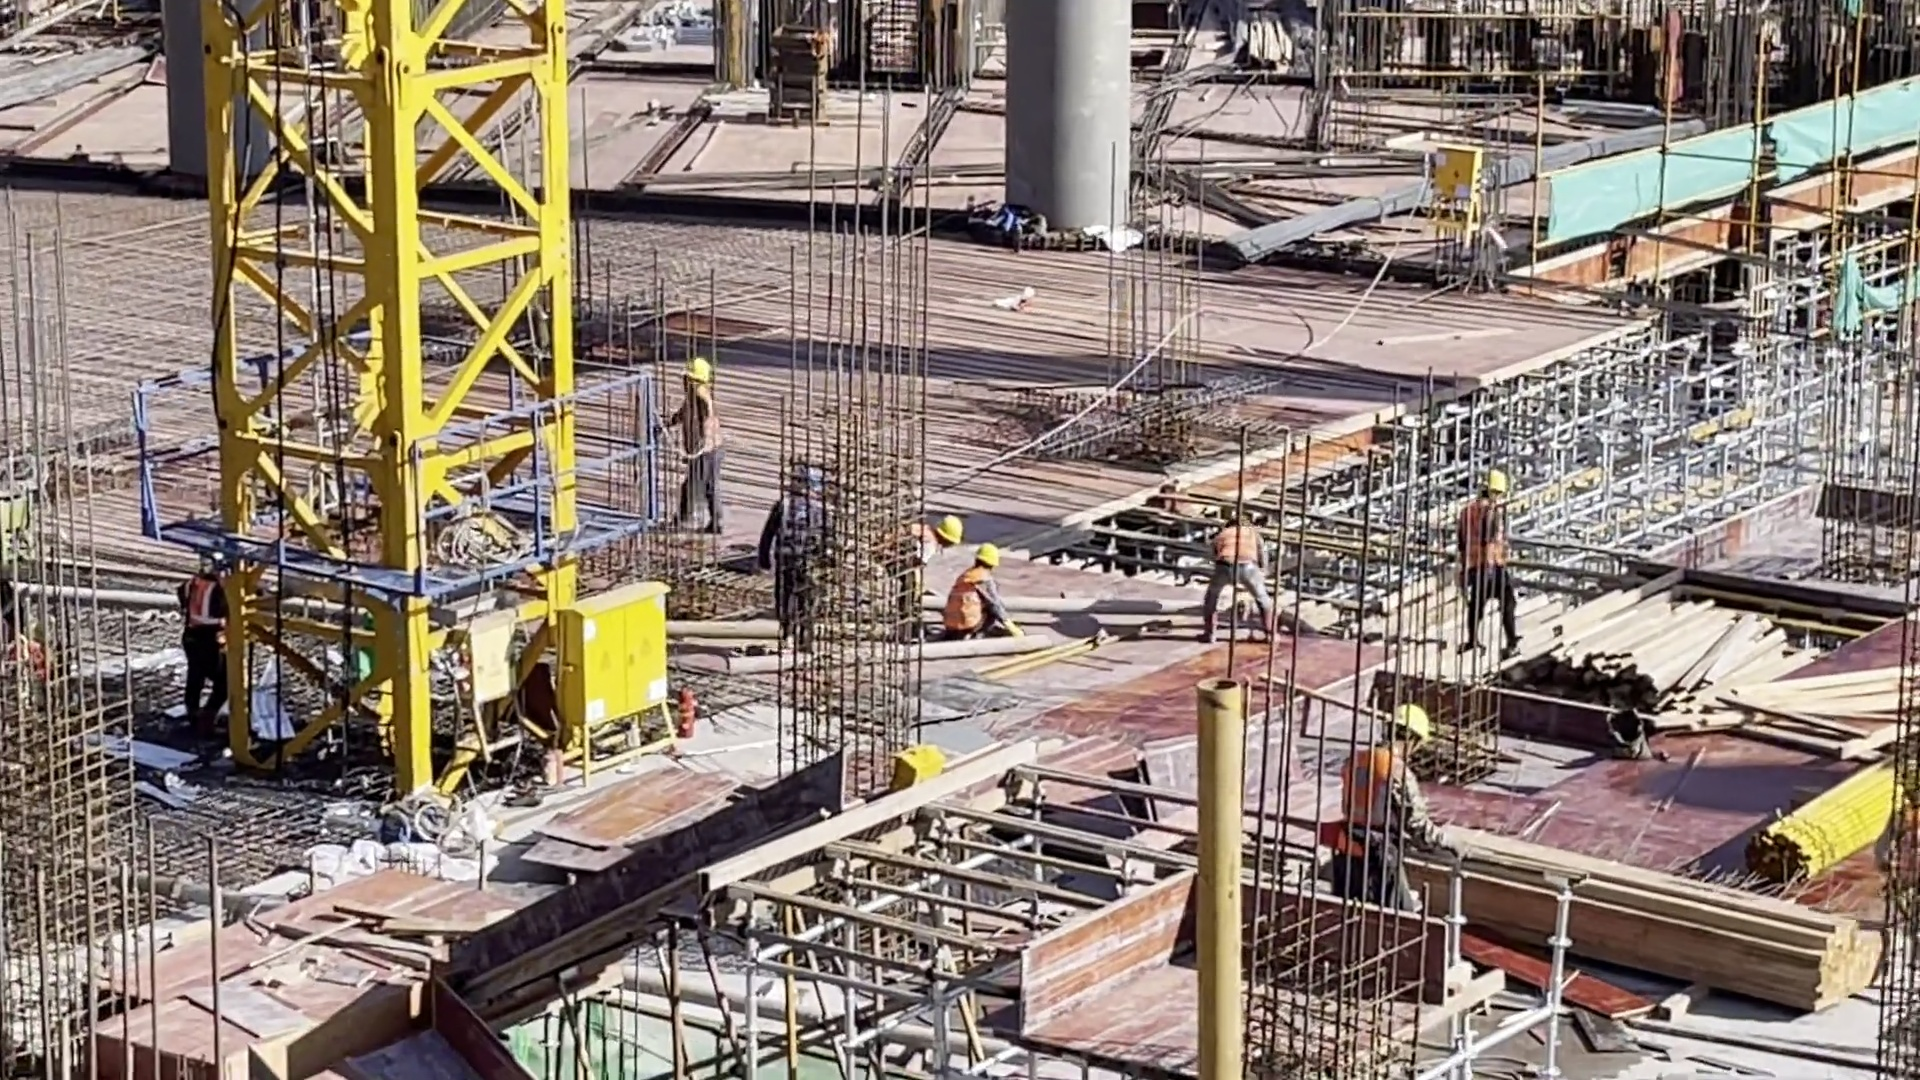helmet: (1386, 703, 1429, 740), (683, 358, 710, 384), (937, 516, 963, 543), (975, 543, 1000, 568), (1481, 470, 1507, 493)
person: (1331, 708, 1445, 910), (1455, 467, 1519, 652), (177, 550, 233, 747), (762, 462, 819, 651), (1199, 511, 1278, 646), (884, 511, 959, 635), (674, 361, 723, 541), (950, 543, 1024, 641)
vest: (1336, 746, 1411, 842), (1459, 501, 1508, 572), (763, 506, 809, 568), (946, 569, 983, 631), (183, 569, 225, 622), (1213, 522, 1256, 566)
